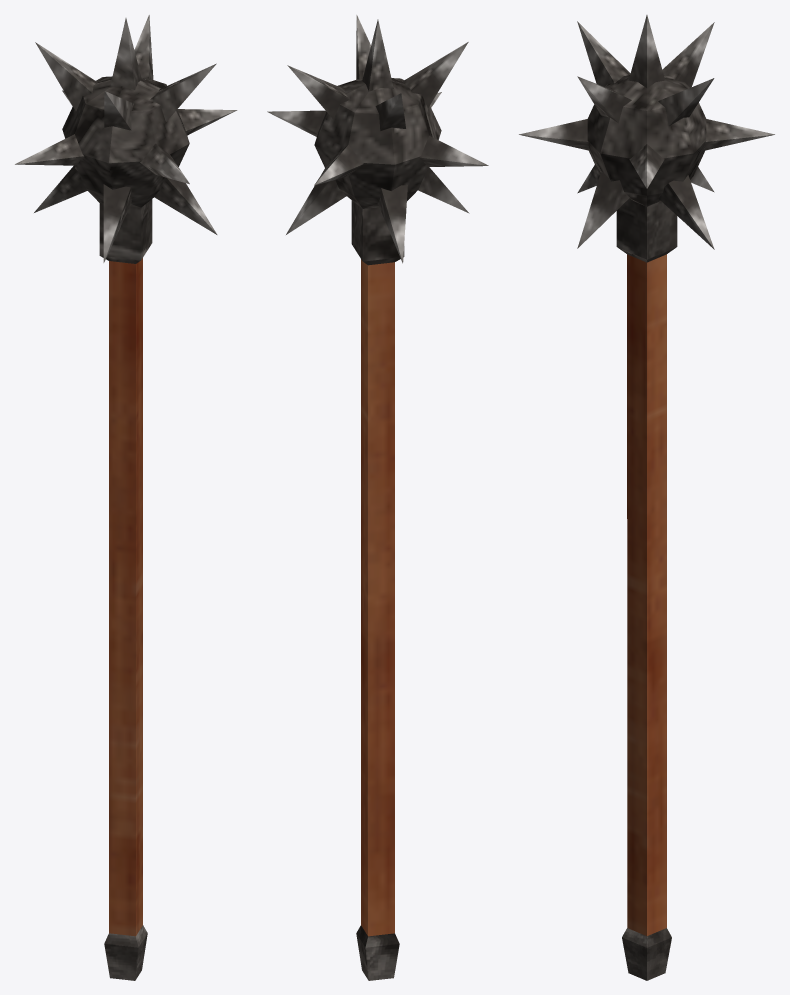
The model's file is mace.glb.
3 views of the same model, side by side, from view 1: azimuth 30°, elevation 25°; view 2: azimuth 150°, elevation 25°; view 3: azimuth 270°, elevation 25° (orthographic).
Visible parts, largest first — view 1: mace_morning_star_a; view 2: mace_morning_star_a; view 3: mace_morning_star_a.
Boxes of the visible parts, x1,y1,x2,y2 form: mace_morning_star_a: [15, 15, 237, 980]; mace_morning_star_a: [267, 15, 488, 980]; mace_morning_star_a: [519, 15, 774, 980].
Size of the model in its own units: 0.265 by 1.08 by 0.2641.
1 material, 1 textured.
